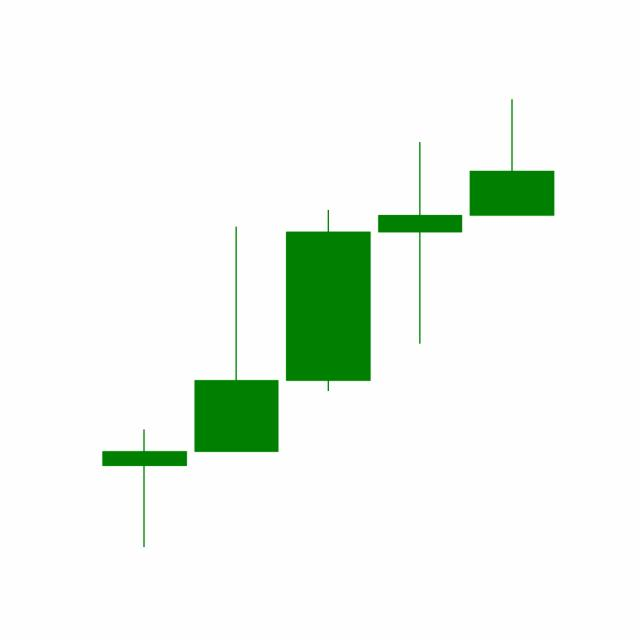Spinning Top: (373, 139, 467, 345)
